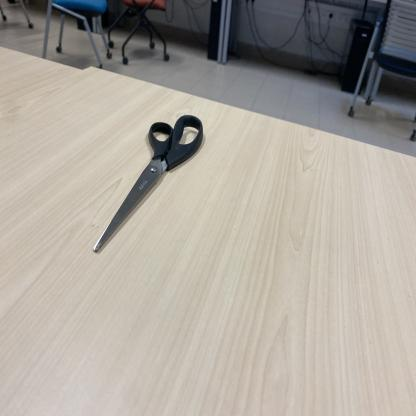scissors: (93, 114, 205, 254)
